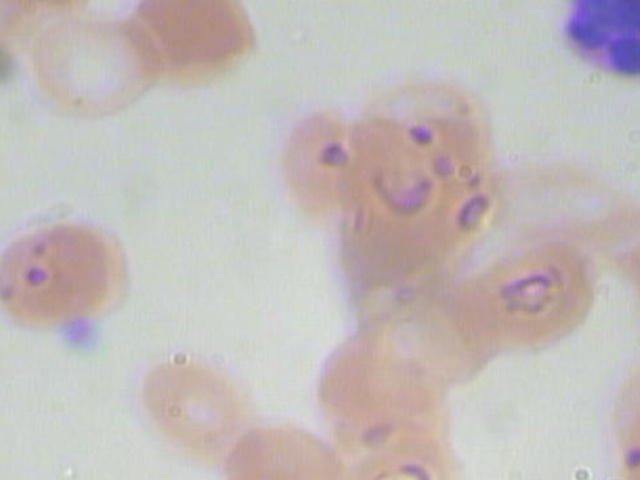Platelets: (56, 313, 111, 358)
RBC: (0, 207, 146, 336), (127, 347, 271, 469), (454, 233, 597, 354), (18, 0, 162, 120), (303, 317, 442, 424), (120, 0, 264, 90), (271, 104, 359, 220), (208, 418, 352, 480), (337, 418, 481, 480), (597, 392, 640, 480)
WBC: (557, 0, 640, 94)
